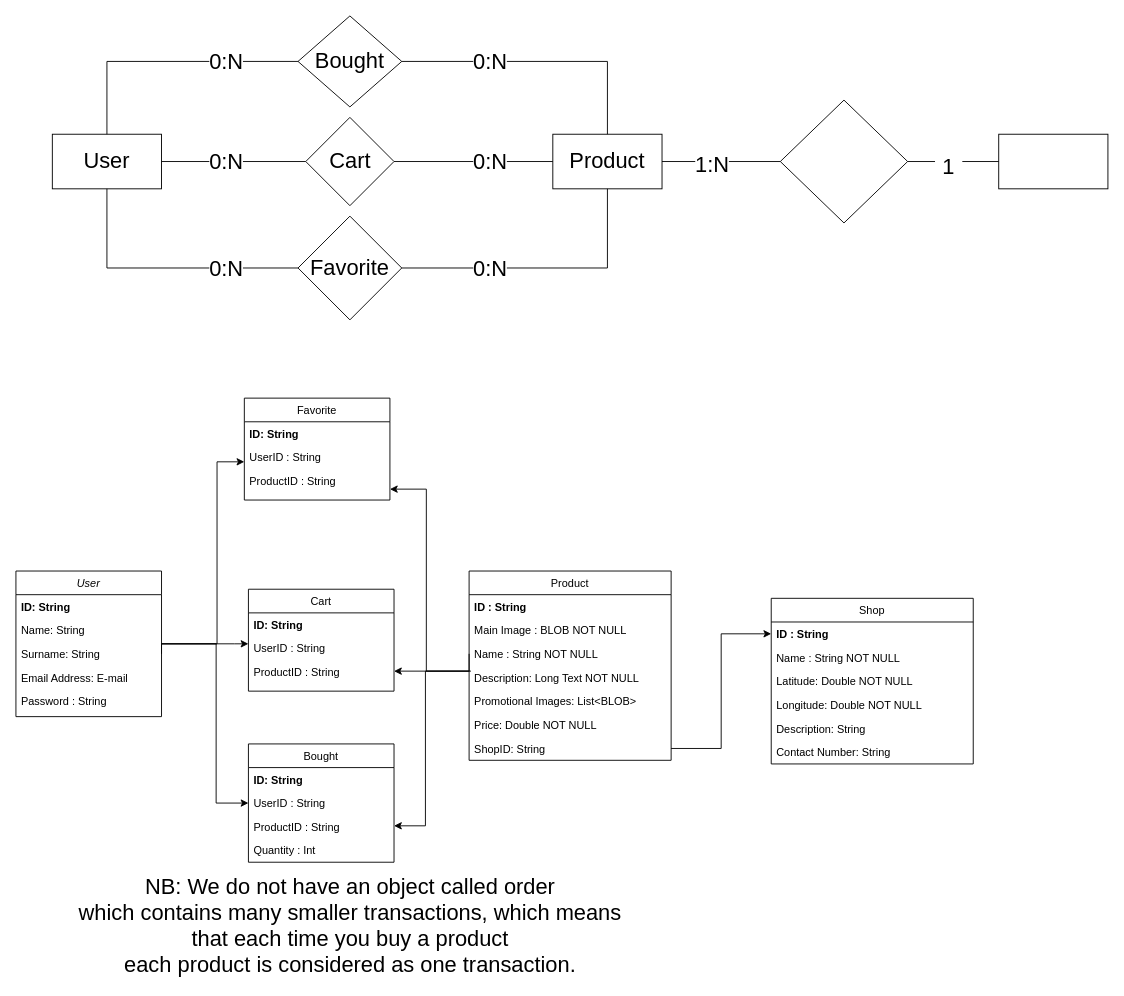
Some shapes in this 1124 by 996 pixel diagram are drawn without their labels. Each missing label, with the centre of its shape:
Publishes: the point at 843,161
Shops: the point at 1053,161
